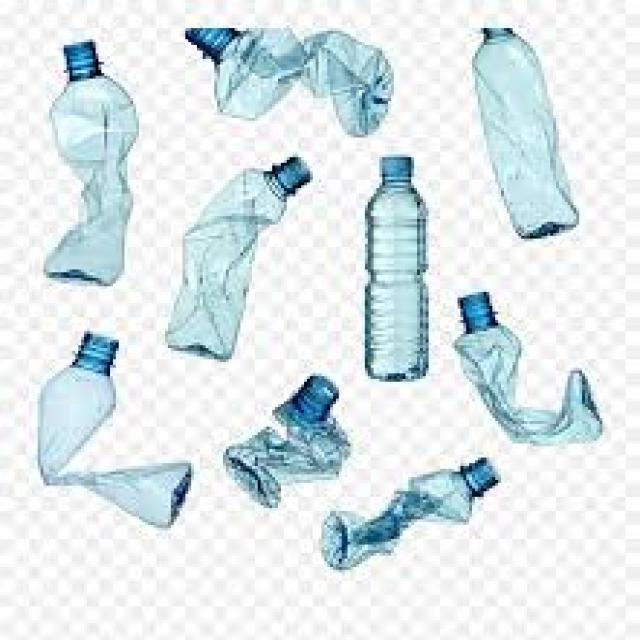defected: (28, 324, 204, 536), (166, 140, 316, 367), (456, 10, 594, 252), (444, 271, 612, 463), (34, 28, 150, 296), (314, 437, 512, 591), (188, 15, 394, 142), (216, 370, 351, 514)
good: (346, 144, 436, 396)
